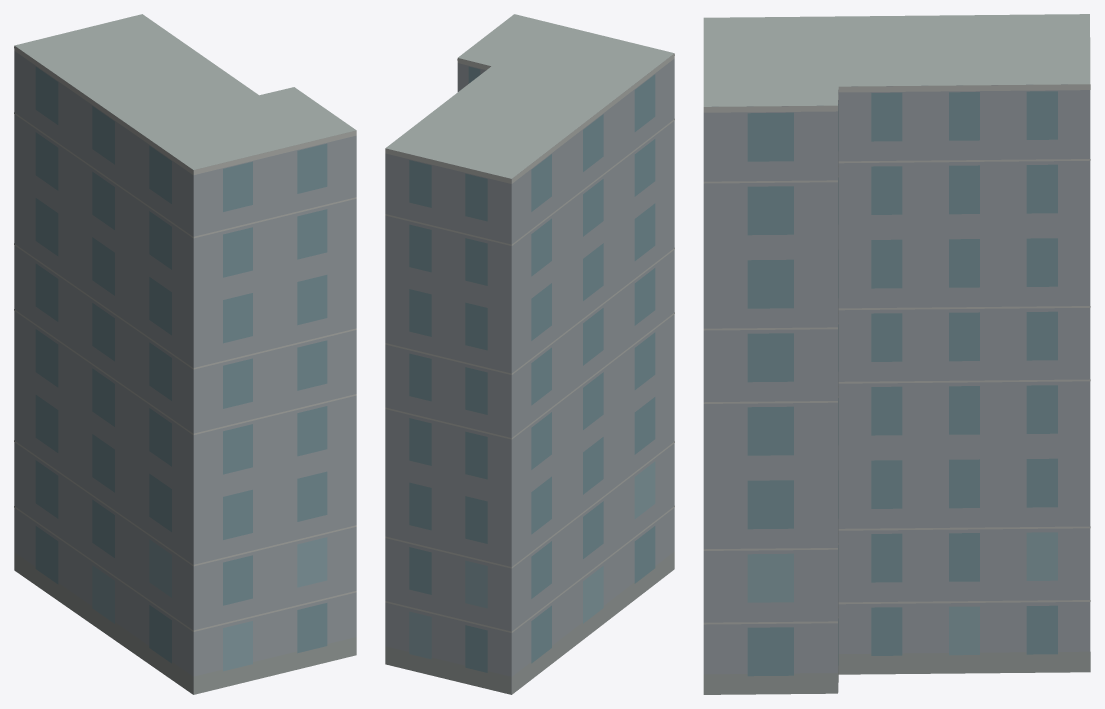
File: survey-upis-32685311.glb
The picture shows the model from 3 angles, left to right: view 1: azimuth 30°, elevation 25°; view 2: azimuth 150°, elevation 25°; view 3: azimuth 270°, elevation 25°; orthographic projection. The views are drawn at different scales.
Visible parts, largest first — view 1: survey-upis-32685311.tmp; view 2: survey-upis-32685311.tmp; view 3: survey-upis-32685311.tmp.
Part boxes in pixels (box(x1,y1,x2,y2)): survey-upis-32685311.tmp: box(14, 14, 356, 694); survey-upis-32685311.tmp: box(385, 14, 674, 694); survey-upis-32685311.tmp: box(703, 14, 1090, 694).
Bounding box in the file's own units: 8.29 × 24.4 × 14.58.
